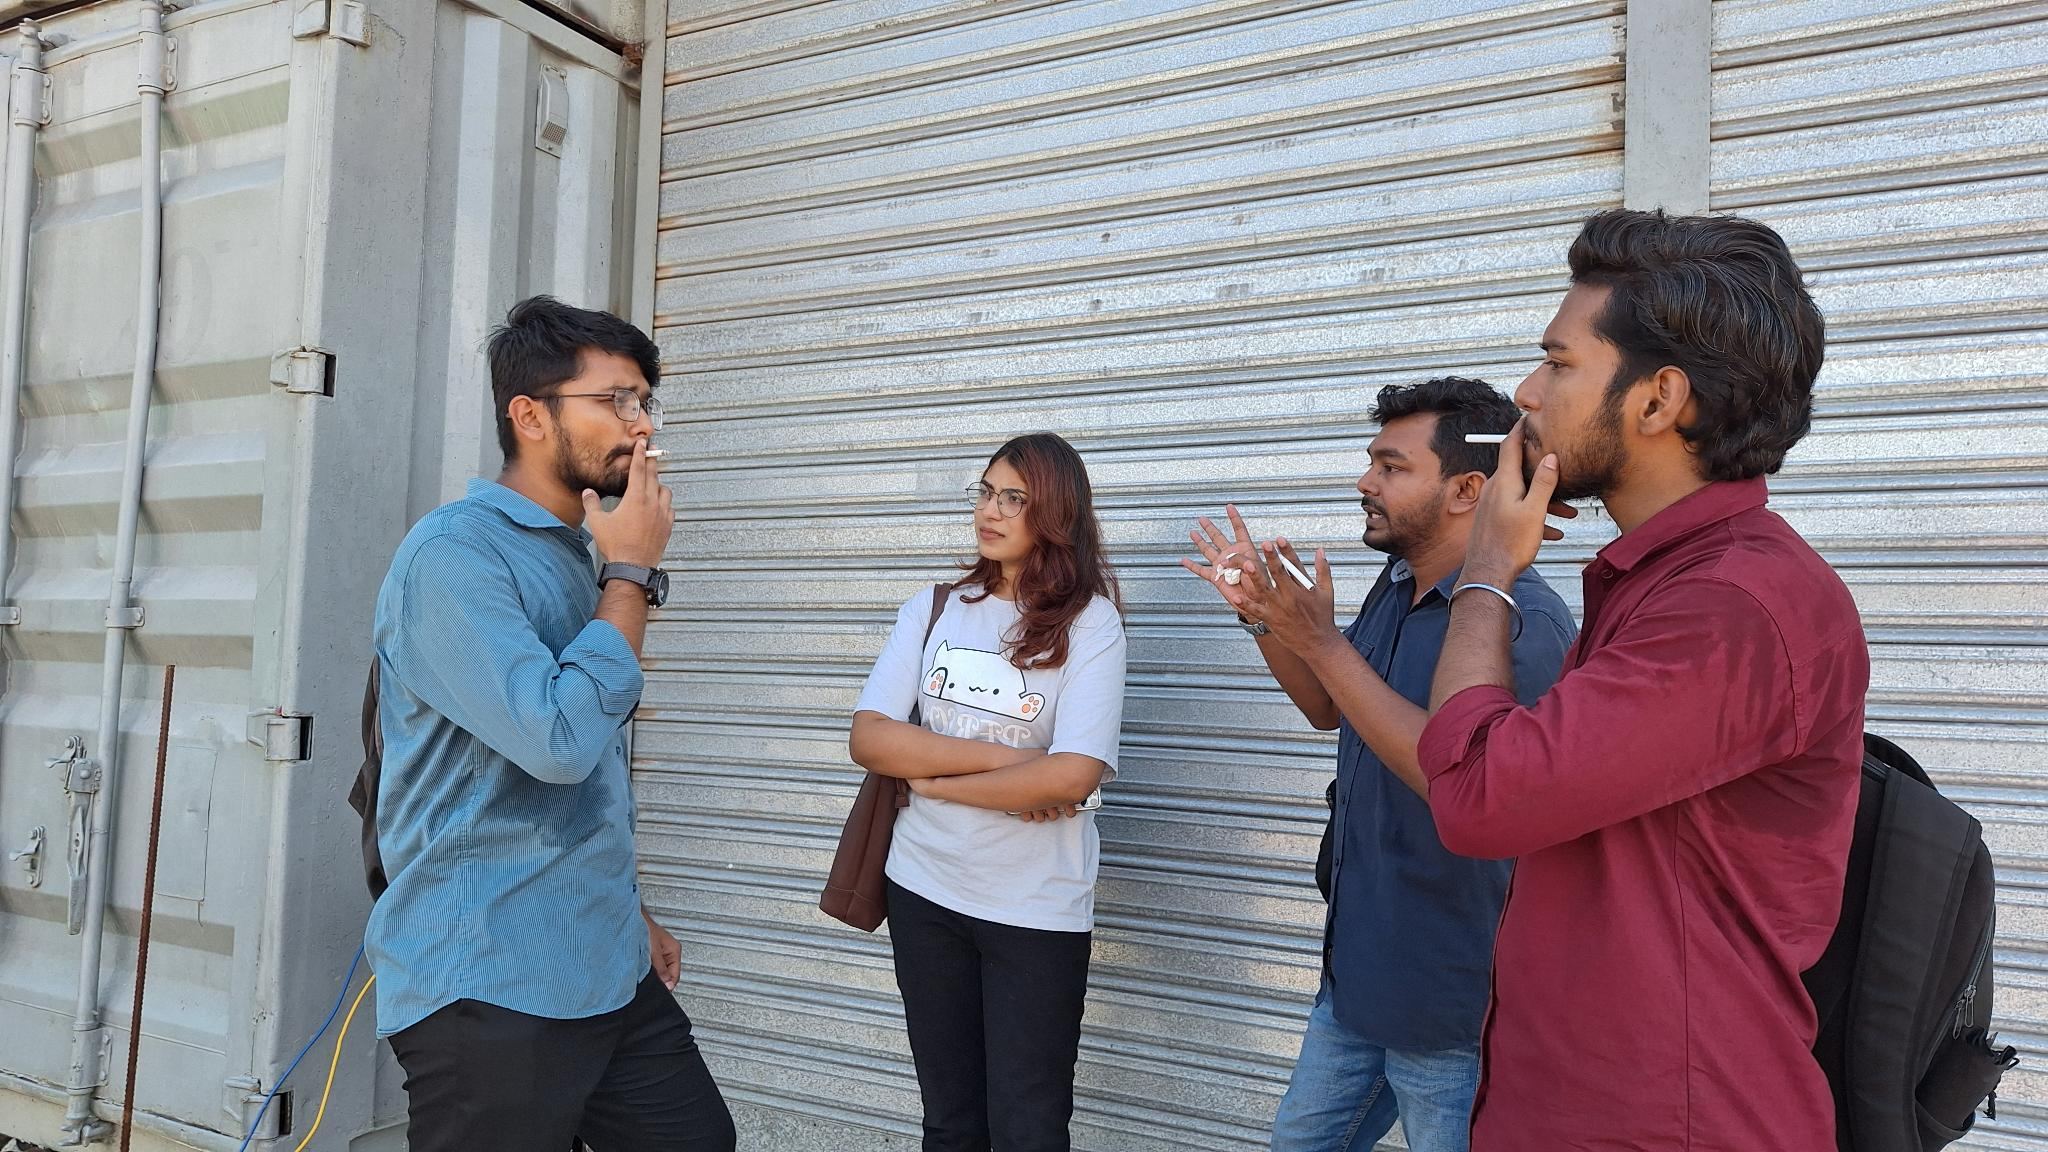cigarette: (1272, 543, 1317, 594), (1461, 430, 1530, 447), (643, 449, 671, 460)
nonSmoker: (819, 432, 1128, 1152)
smoker: (1418, 211, 2020, 1152), (347, 297, 738, 1152), (1179, 377, 1580, 1152)
